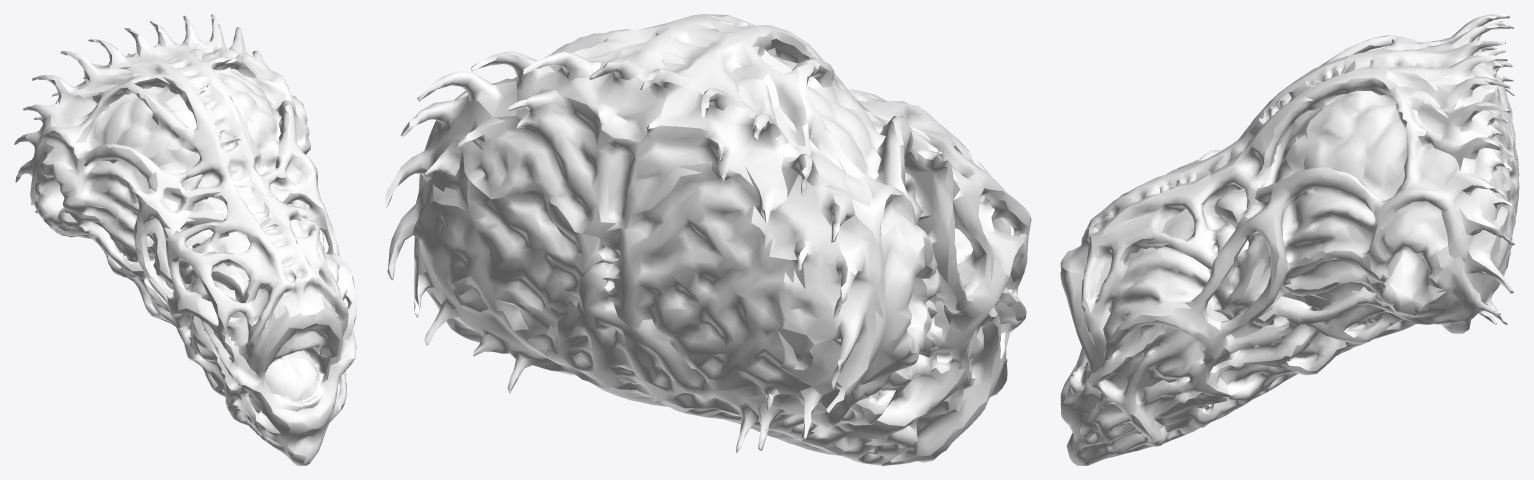
Rendered from Worm_A.glb.
3 views of the same model, side by side, from view 1: azimuth 30°, elevation 25°; view 2: azimuth 150°, elevation 25°; view 3: azimuth 270°, elevation 25° (orthographic). The views are drawn at different scales.
Visible parts, largest first — view 1: MeshEditorResult; view 2: MeshEditorResult; view 3: MeshEditorResult.
Boxes of the visible parts, <box> form: MeshEditorResult: <box>14,14,356,465</box>; MeshEditorResult: <box>385,14,1031,465</box>; MeshEditorResult: <box>1060,14,1519,465</box>.
Size of the model in its own units: 1.65 by 1.97 by 1.96.
1 material, 1 textured.
